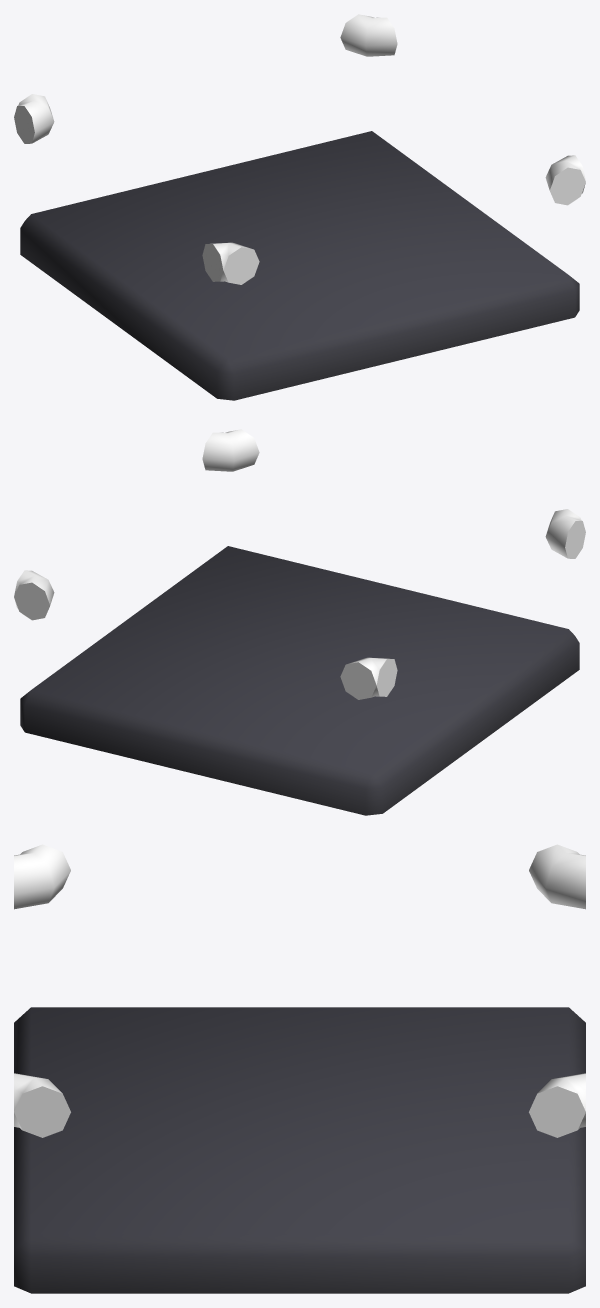
The model's file is catwalk-cross.obj.
3 renders of one model, top to bottom at view 1: azimuth 30°, elevation 25°; view 2: azimuth 150°, elevation 25°; view 3: azimuth 270°, elevation 25°, orthographic. The views are drawn at different scales.
Visible parts, largest first — view 1: catwalk-cross; view 2: catwalk-cross; view 3: catwalk-cross.
Part boxes in pixels (x1,y1,x2,y2): catwalk-cross: [14, 14, 585, 400]; catwalk-cross: [14, 429, 585, 815]; catwalk-cross: [14, 844, 585, 1293].
Size of the model in its own units: 1 by 0.4 by 1.
